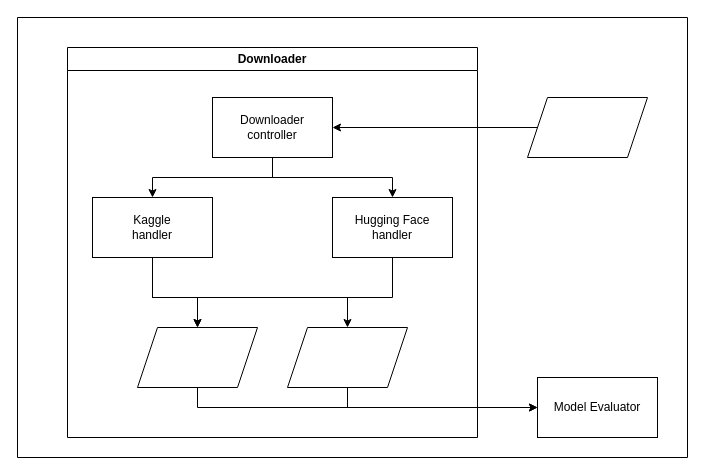
Image size: 705x475. Some labels were removed from this diagram. The shapes that lost their labels are listed below. From the top down, each one's box as (x1, y1, x2, y2) in pixels, then its label:
(526, 96, 648, 158): Downloader configuration
(136, 326, 258, 388): Models
(286, 326, 408, 388): Datasets
